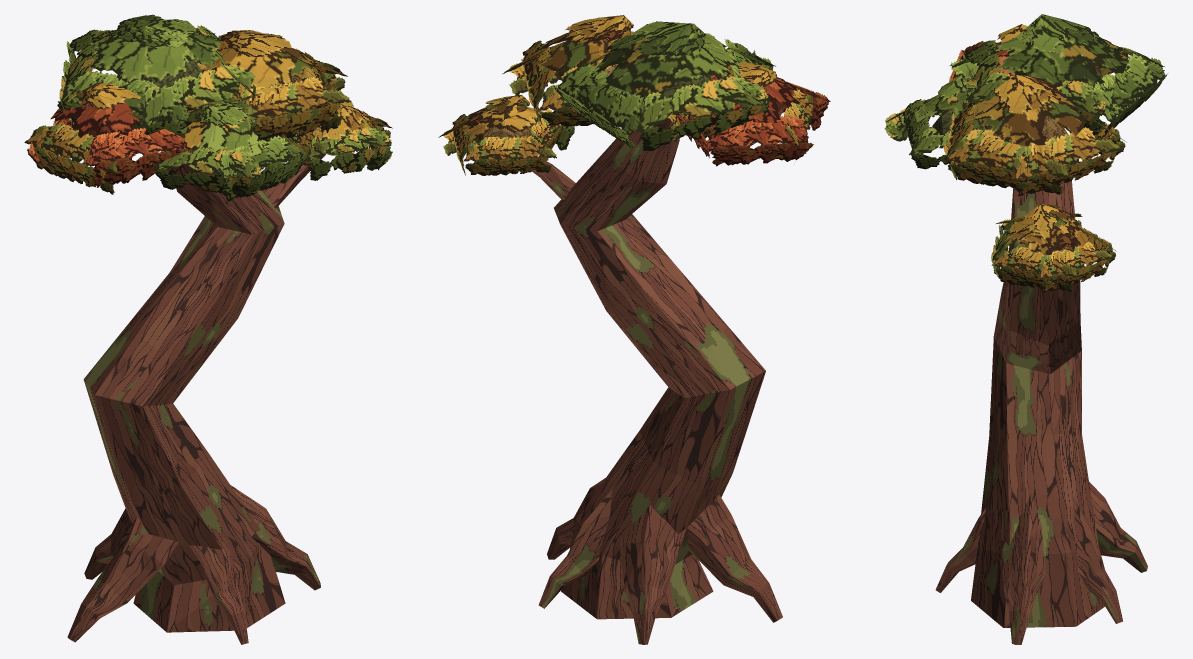
The model's file is SM_TR05_Zigzag.fbx.
The picture shows the model from 3 angles, left to right: view 1: azimuth 30°, elevation 25°; view 2: azimuth 150°, elevation 25°; view 3: azimuth 270°, elevation 25°; orthographic projection. The views are drawn at different scales.
Parts seen in each view (by area): view 1: TR05_Bark, TR05_Crown; view 2: TR05_Bark, TR05_Crown; view 3: TR05_Bark, TR05_Crown.
Part boxes in pixels (bbox=[...]): TR05_Bark: bbox=[67, 148, 325, 644]; TR05_Crown: bbox=[24, 14, 392, 201]; TR05_Bark: bbox=[520, 115, 782, 644]; TR05_Crown: bbox=[438, 15, 830, 175]; TR05_Bark: bbox=[935, 181, 1147, 644]; TR05_Crown: bbox=[884, 14, 1167, 292].
Bounding box in the file's own units: 4.93 × 7.37 × 3.63.
